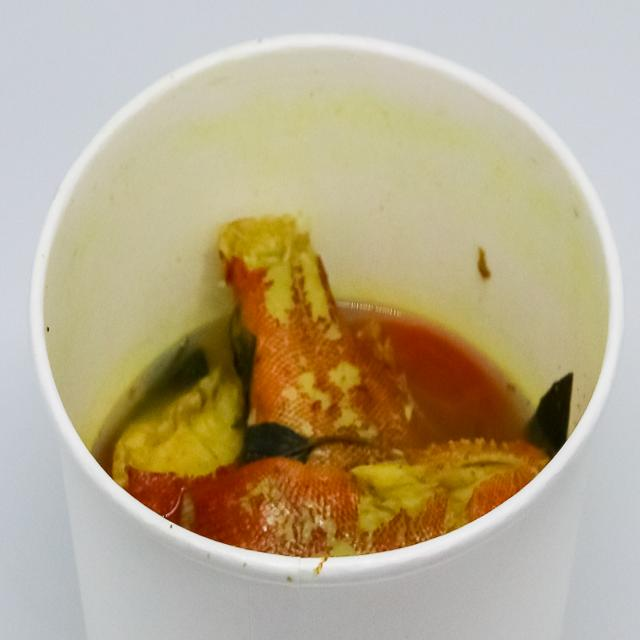Gulai-Ikan-Mas: (98, 200, 587, 569)
